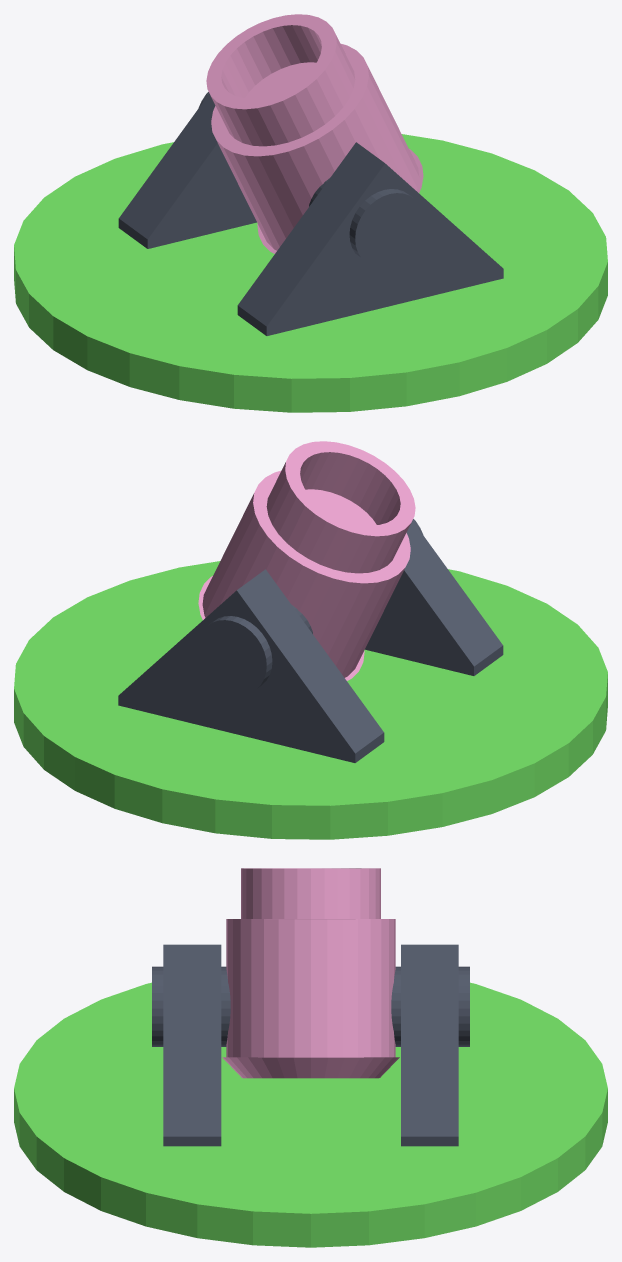
File: turret3.fbx
3 renders of one model, top to bottom at view 1: azimuth 30°, elevation 25°; view 2: azimuth 150°, elevation 25°; view 3: azimuth 270°, elevation 25°, orthographic.
Parts seen in each view (by area): view 1: turret3; view 2: turret3; view 3: turret3.
Boxes of the visible parts, x1=… form: turret3: x1=14, y1=14, x2=607, y2=412; turret3: x1=14, y1=441, x2=607, y2=839; turret3: x1=14, y1=868, x2=607, y2=1247.
Bounding box in the file's own units: 20000 × 9704 × 20000.
